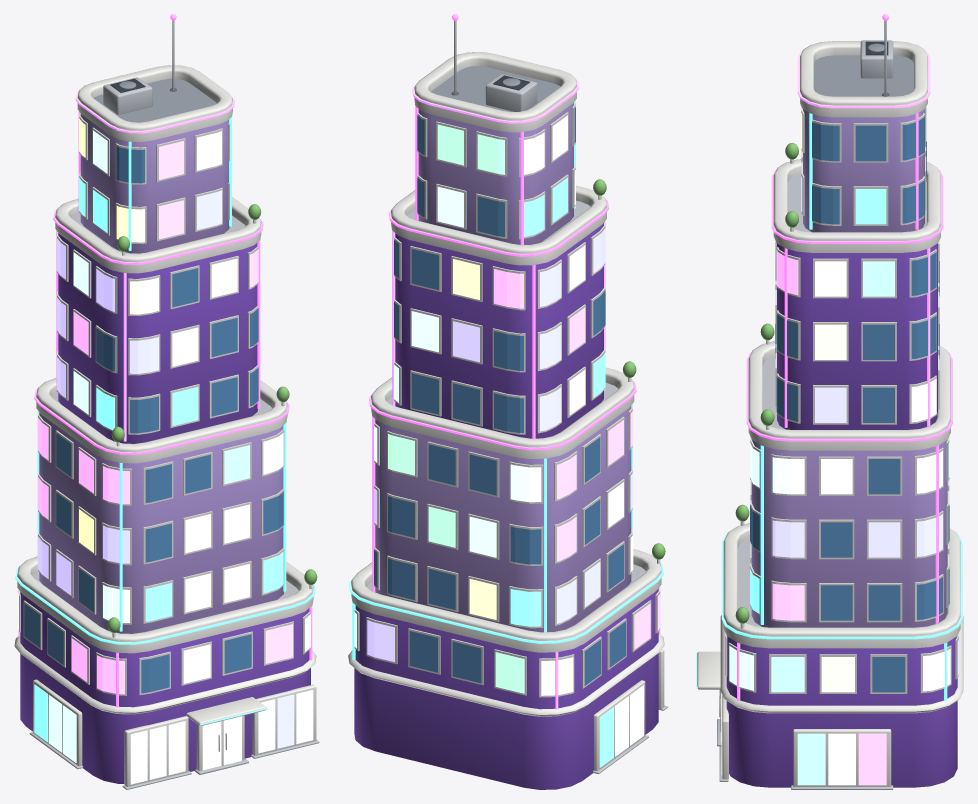
The model's file is predio_escalonado_neon_lilas.glb.
The picture shows the model from 3 angles, left to right: view 1: azimuth 30°, elevation 25°; view 2: azimuth 150°, elevation 25°; view 3: azimuth 270°, elevation 25°; orthographic projection. The views are drawn at different scales.
Parts seen in each view (by area): view 1: predio_escalonado_neon_lilas; view 2: predio_escalonado_neon_lilas; view 3: predio_escalonado_neon_lilas.
Boxes of the visible parts, x1,y1,x2,y2 form: predio_escalonado_neon_lilas: (14,14,319,789); predio_escalonado_neon_lilas: (348,14,667,789); predio_escalonado_neon_lilas: (696,14,963,789).
Size of the model in its own units: 12.66 by 37.2 by 12.28.
12 materials, 1 textured.
